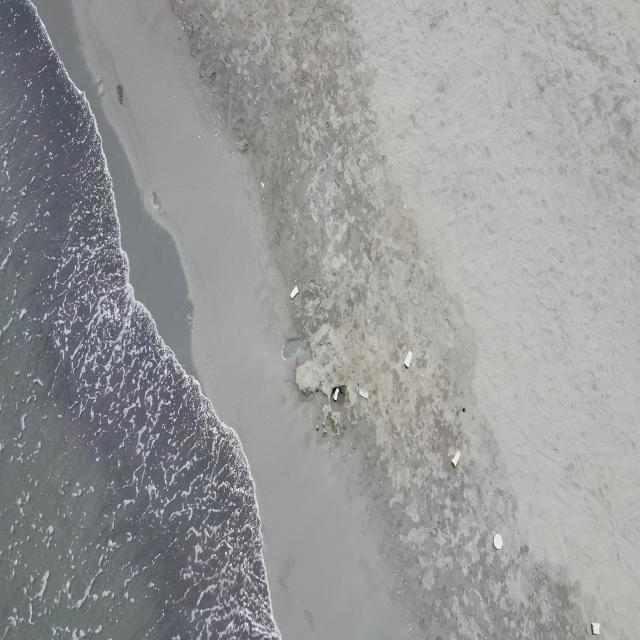take-away-containers: (493, 534, 503, 550), (591, 622, 601, 635)
takeaway-cup: (404, 350, 413, 369), (452, 450, 461, 467), (290, 285, 299, 300), (359, 388, 368, 400), (333, 387, 339, 402)
